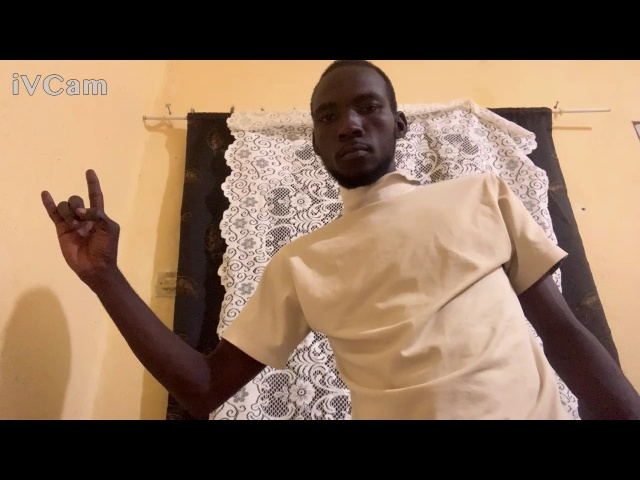je t'aime: (39, 166, 132, 293)
